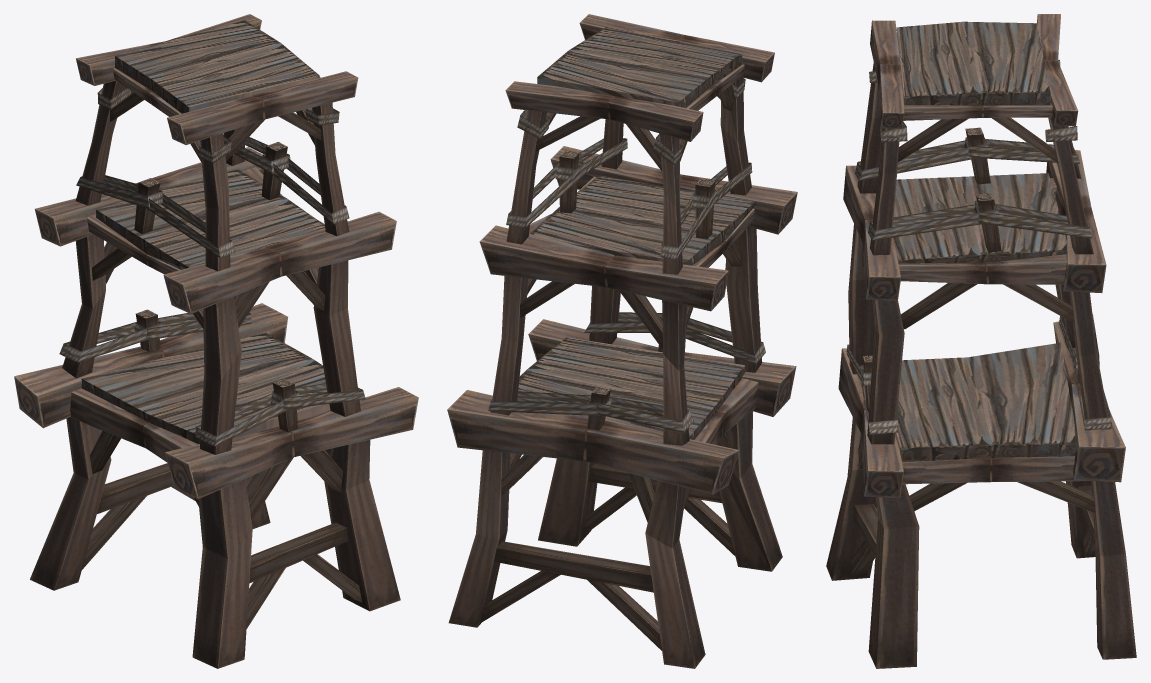
The model's file is object_minetower.fbx.
The picture shows the model from 3 angles, left to right: view 1: azimuth 30°, elevation 25°; view 2: azimuth 150°, elevation 25°; view 3: azimuth 270°, elevation 25°; orthographic projection. The views are drawn at different scales.
Visible parts, largest first — view 1: obj1.018; view 2: obj1.018; view 3: obj1.018.
Boxes of the visible parts, x1,y1,x2,y2 form: obj1.018: [14, 14, 418, 668]; obj1.018: [447, 14, 797, 668]; obj1.018: [826, 14, 1136, 668].
Bounding box in the file's own units: 4.91 × 8.65 × 4.44.
